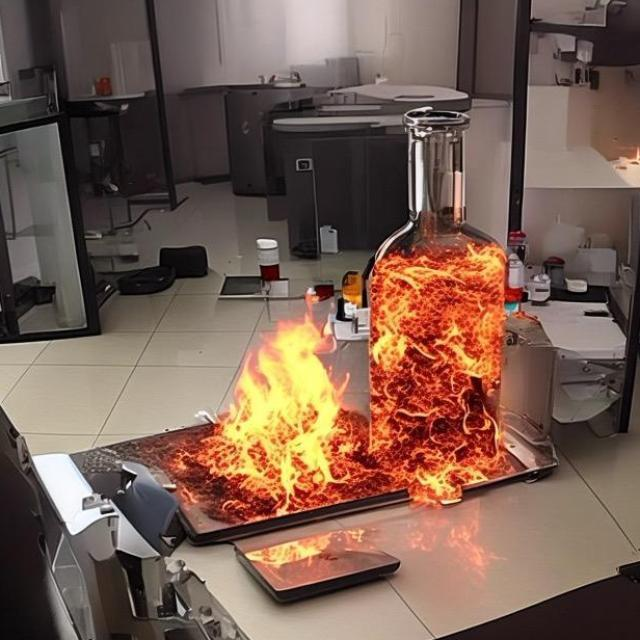smoke: (358, 238, 510, 505), (211, 307, 338, 504)
